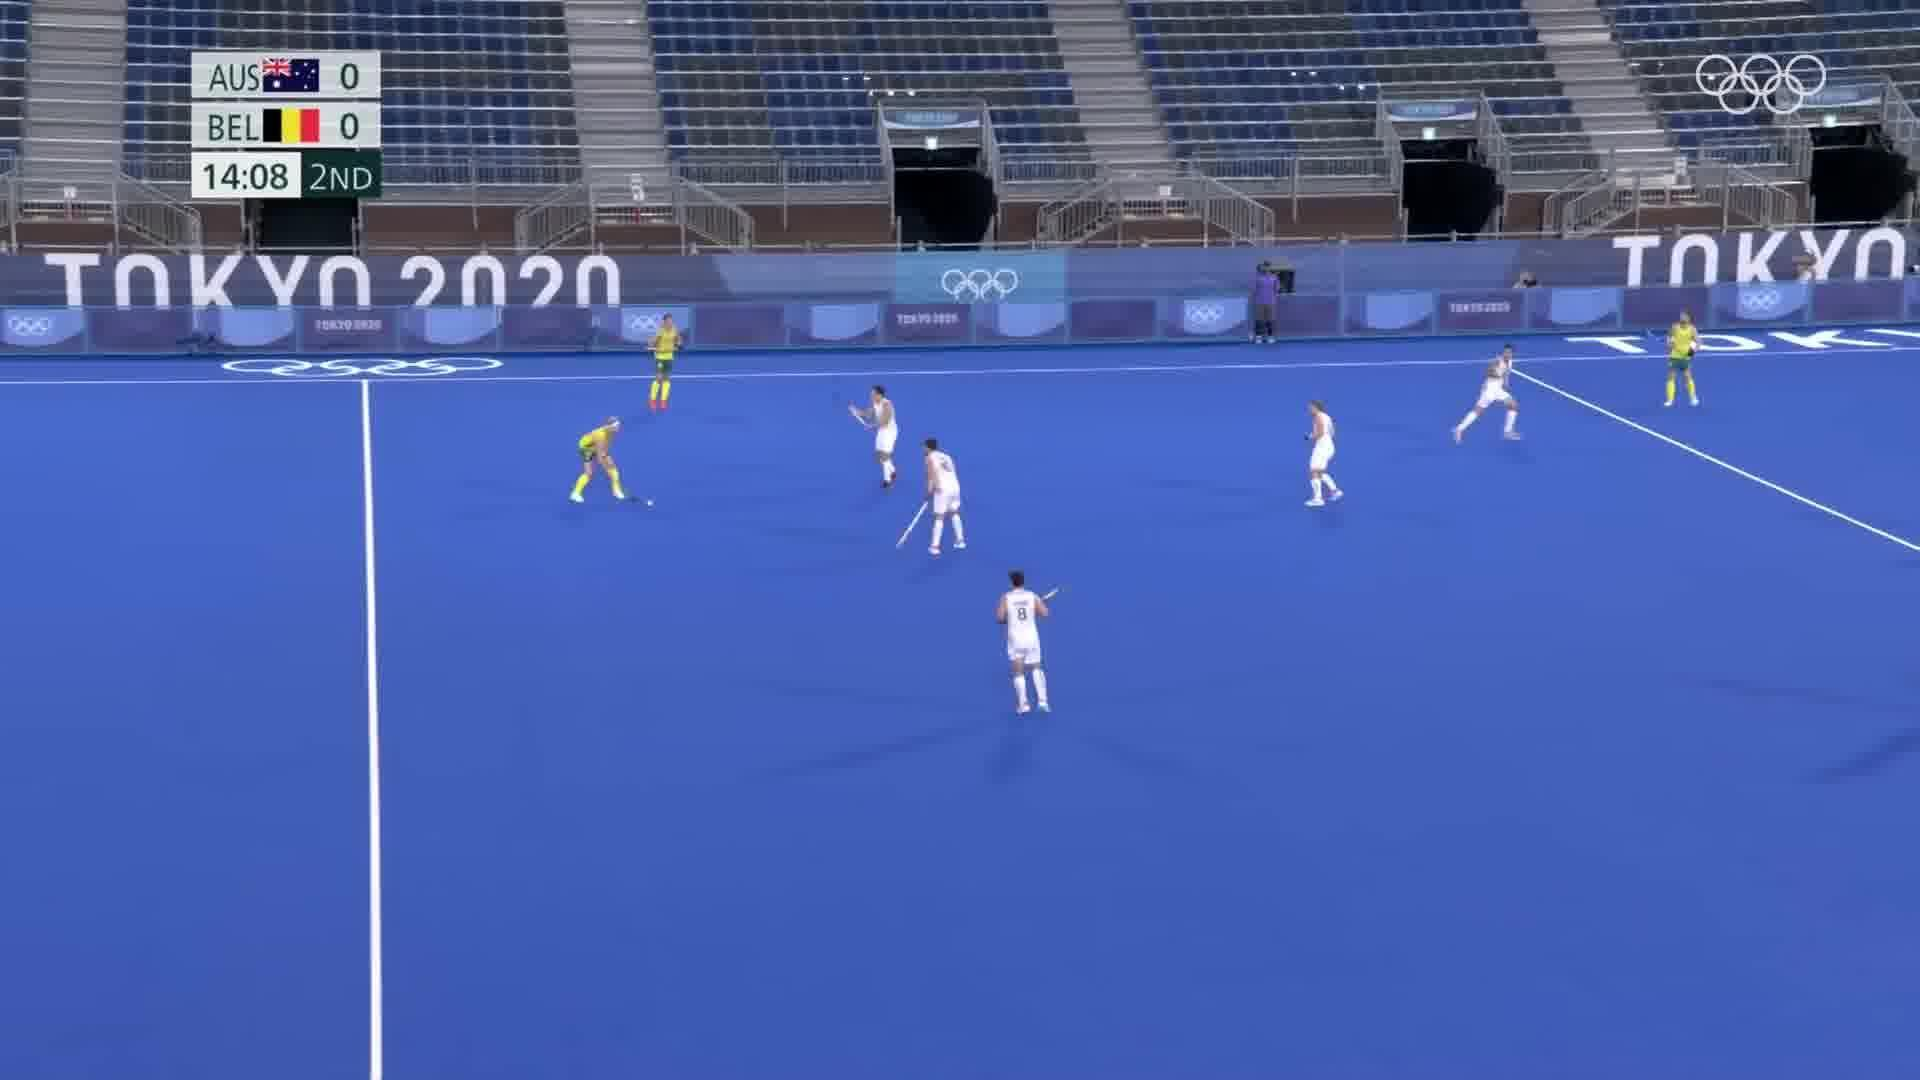ball: (644, 495, 659, 512)
